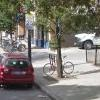Bicycle: (42, 52, 76, 77)
